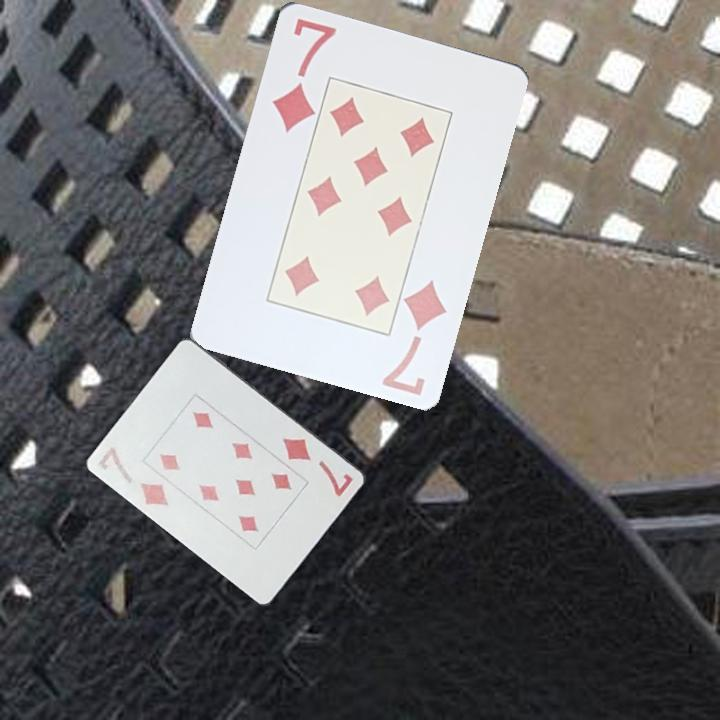7d: (267, 13, 340, 135), (378, 275, 450, 398), (95, 443, 173, 509), (279, 434, 356, 499)
